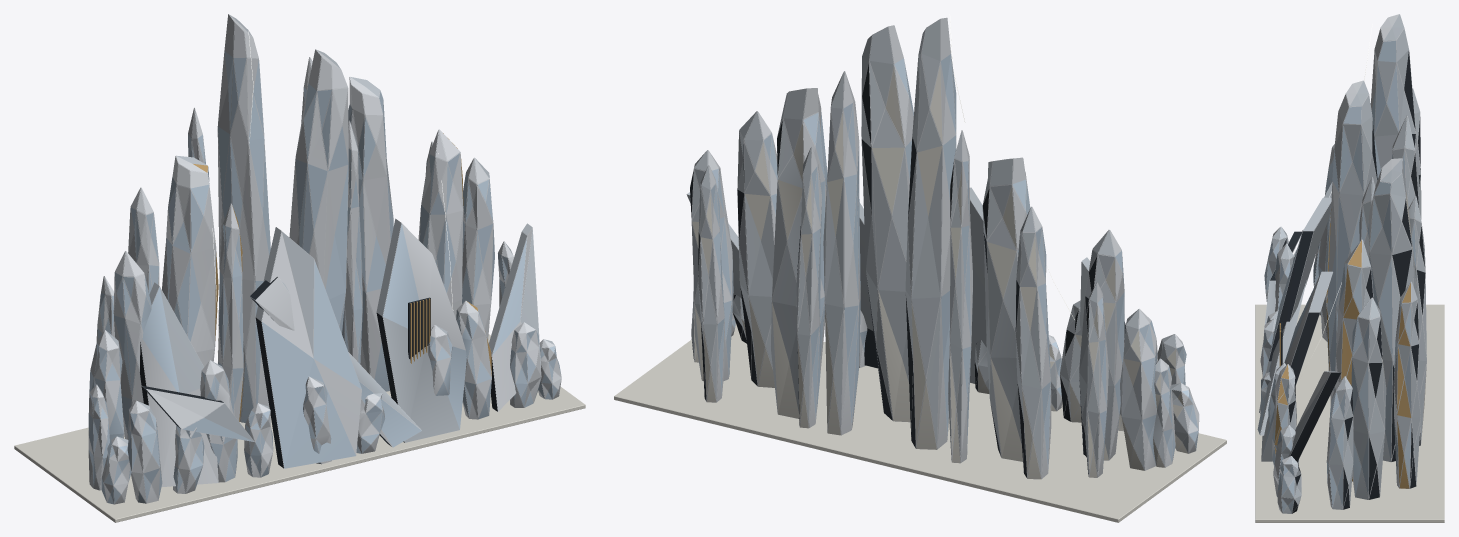
Rendered from projection-crystals-v7.glb.
3 views of the same model, side by side, from view 1: azimuth 30°, elevation 25°; view 2: azimuth 150°, elevation 25°; view 3: azimuth 270°, elevation 25° (orthographic). The views are drawn at different scales.
Visible parts, largest first — view 1: Projection Crystals | white projected sculpted facade, Projection Crystals | white projected sculpted facade | pale, Projection Crystals | crystal brushed silver facet, Projection Crystals | ivory sculpted return, Projection Crystals | dark crystal recessed joint, Projection Crystals | crystal champagne gold facet; view 2: Projection Crystals | crystal brushed silver facet, Projection Crystals | ivory sculpted return, Projection Crystals | white projected sculpted facade, Projection Crystals | white projected sculpted facade | pale, Projection Crystals | dark crystal recessed joint; view 3: Projection Crystals | crystal brushed silver facet, Projection Crystals | white projected sculpted facade, Projection Crystals | ivory sculpted return, Projection Crystals | white projected sculpted facade | pale, Projection Crystals | dark crystal recessed joint, Projection Crystals | crystal champagne gold facet.
Part boxes in pixels (left/top/right/bottom): Projection Crystals | white projected sculpted facade: left=88, top=14, right=561, bottom=504; Projection Crystals | white projected sculpted facade | pale: left=88, top=51, right=561, bottom=504; Projection Crystals | crystal brushed silver facet: left=98, top=14, right=554, bottom=478; Projection Crystals | ivory sculpted return: left=14, top=334, right=585, bottom=522; Projection Crystals | dark crystal recessed joint: left=140, top=277, right=497, bottom=468; Projection Crystals | crystal champagne gold facet: left=193, top=133, right=491, bottom=421; Projection Crystals | crystal brushed silver facet: left=687, top=19, right=1188, bottom=474; Projection Crystals | ivory sculpted return: left=614, top=65, right=1226, bottom=522; Projection Crystals | white projected sculpted facade: left=686, top=17, right=1199, bottom=479; Projection Crystals | white projected sculpted facade | pale: left=711, top=54, right=1199, bottom=469; Projection Crystals | dark crystal recessed joint: left=690, top=64, right=1125, bottom=477; Projection Crystals | crystal brushed silver facet: left=1259, top=14, right=1426, bottom=513; Projection Crystals | white projected sculpted facade: left=1259, top=14, right=1426, bottom=513; Projection Crystals | ivory sculpted return: left=1255, top=190, right=1444, bottom=522; Projection Crystals | white projected sculpted facade | pale: left=1257, top=41, right=1416, bottom=513; Projection Crystals | dark crystal recessed joint: left=1268, top=51, right=1425, bottom=513; Projection Crystals | crystal champagne gold facet: left=1274, top=209, right=1411, bottom=488.
Bounding box in the file's own units: 4.3 × 3.55 × 1.6.
